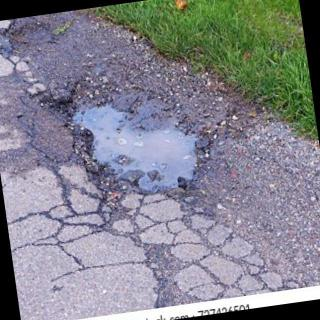pothole: (48, 92, 204, 190)
